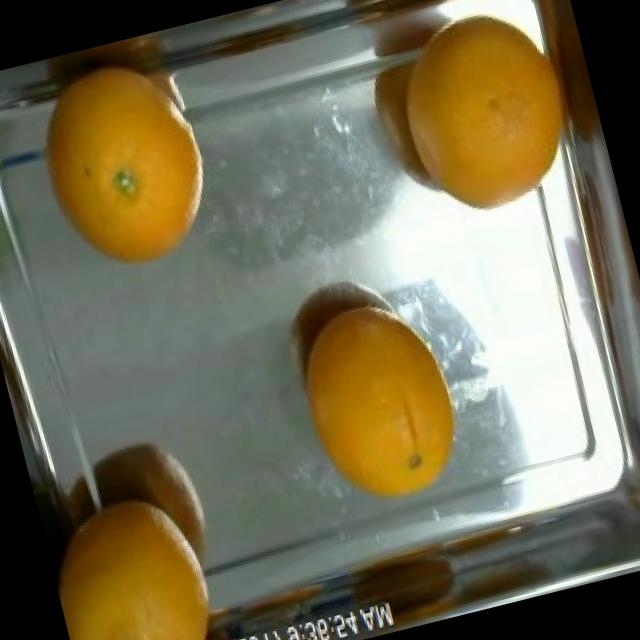Fruit: (274, 293, 487, 534), (36, 468, 235, 640)
